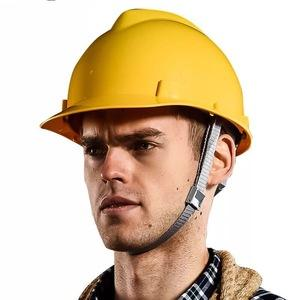helmet: (38, 10, 254, 157)
